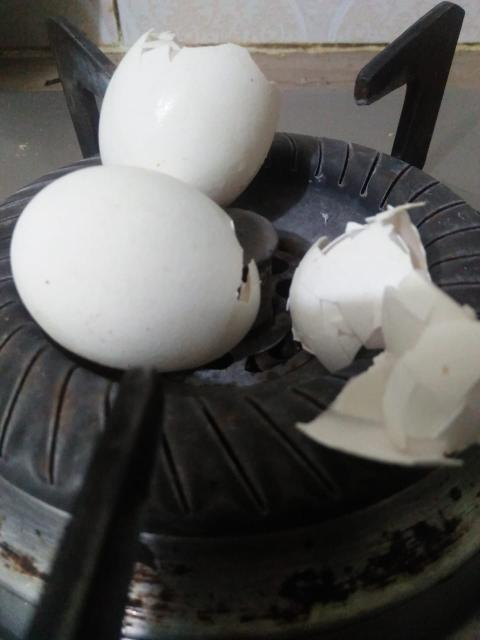Roto: (9, 162, 262, 373), (286, 200, 480, 469), (96, 27, 282, 206)
